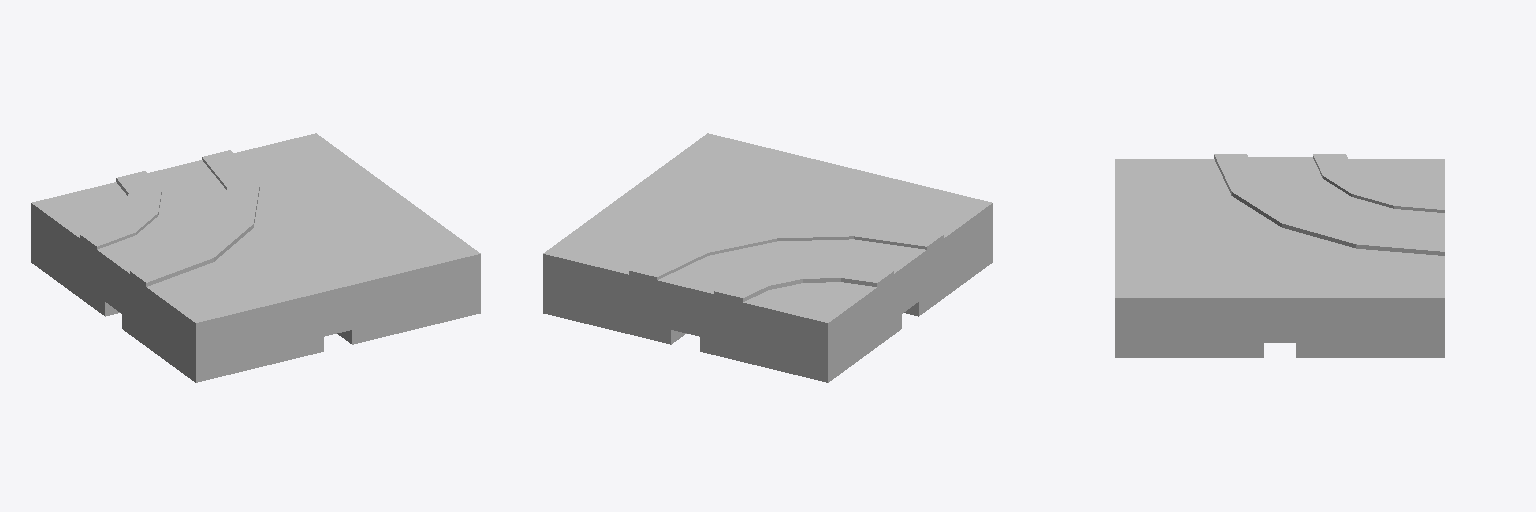
File: puzzlePiece_oneBend_SE.obj
3 renders of one model, left to right at view 1: azimuth 30°, elevation 25°; view 2: azimuth 150°, elevation 25°; view 3: azimuth 270°, elevation 25°, orthographic.
Parts seen in each view (by area): view 1: polySurface9 polySurface5, polySurface11, polySurface5 polySurface10; view 2: polySurface9 polySurface5, polySurface11, polySurface5 polySurface10; view 3: polySurface9 polySurface5, polySurface11, polySurface5 polySurface10.
Boxes of the visible parts, x1,y1,x2,y2 form: polySurface9 polySurface5: [31, 133, 480, 382]; polySurface11: [80, 150, 259, 286]; polySurface5 polySurface10: [97, 160, 225, 283]; polySurface9 polySurface5: [543, 133, 992, 382]; polySurface11: [629, 223, 943, 306]; polySurface5 polySurface10: [634, 239, 939, 297]; polySurface9 polySurface5: [1115, 159, 1444, 357]; polySurface11: [1214, 154, 1444, 255]; polySurface5 polySurface10: [1249, 157, 1444, 237].
Bounding box in the file's own units: 0.5 × 0.107 × 0.5.